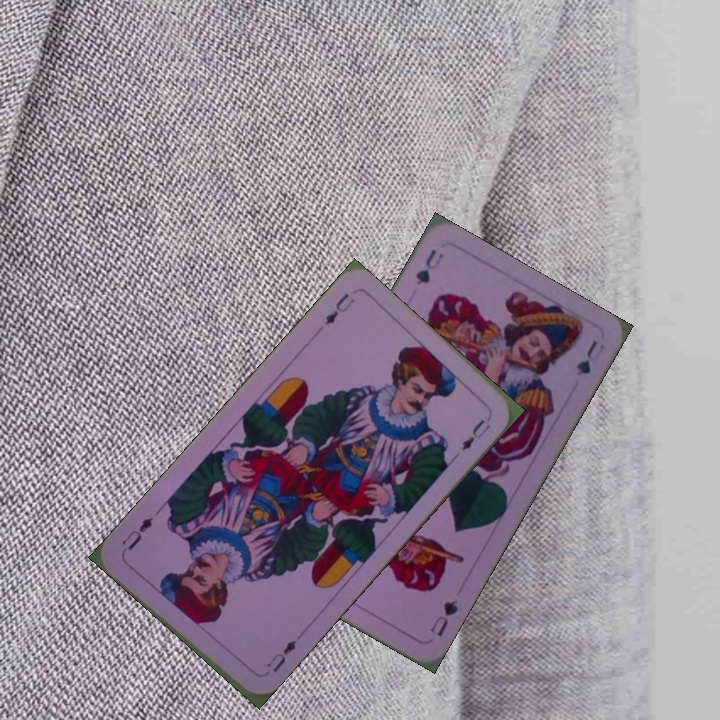EU: (320, 289, 358, 328), (263, 635, 299, 676)
GU: (426, 595, 461, 640), (411, 245, 447, 288)
